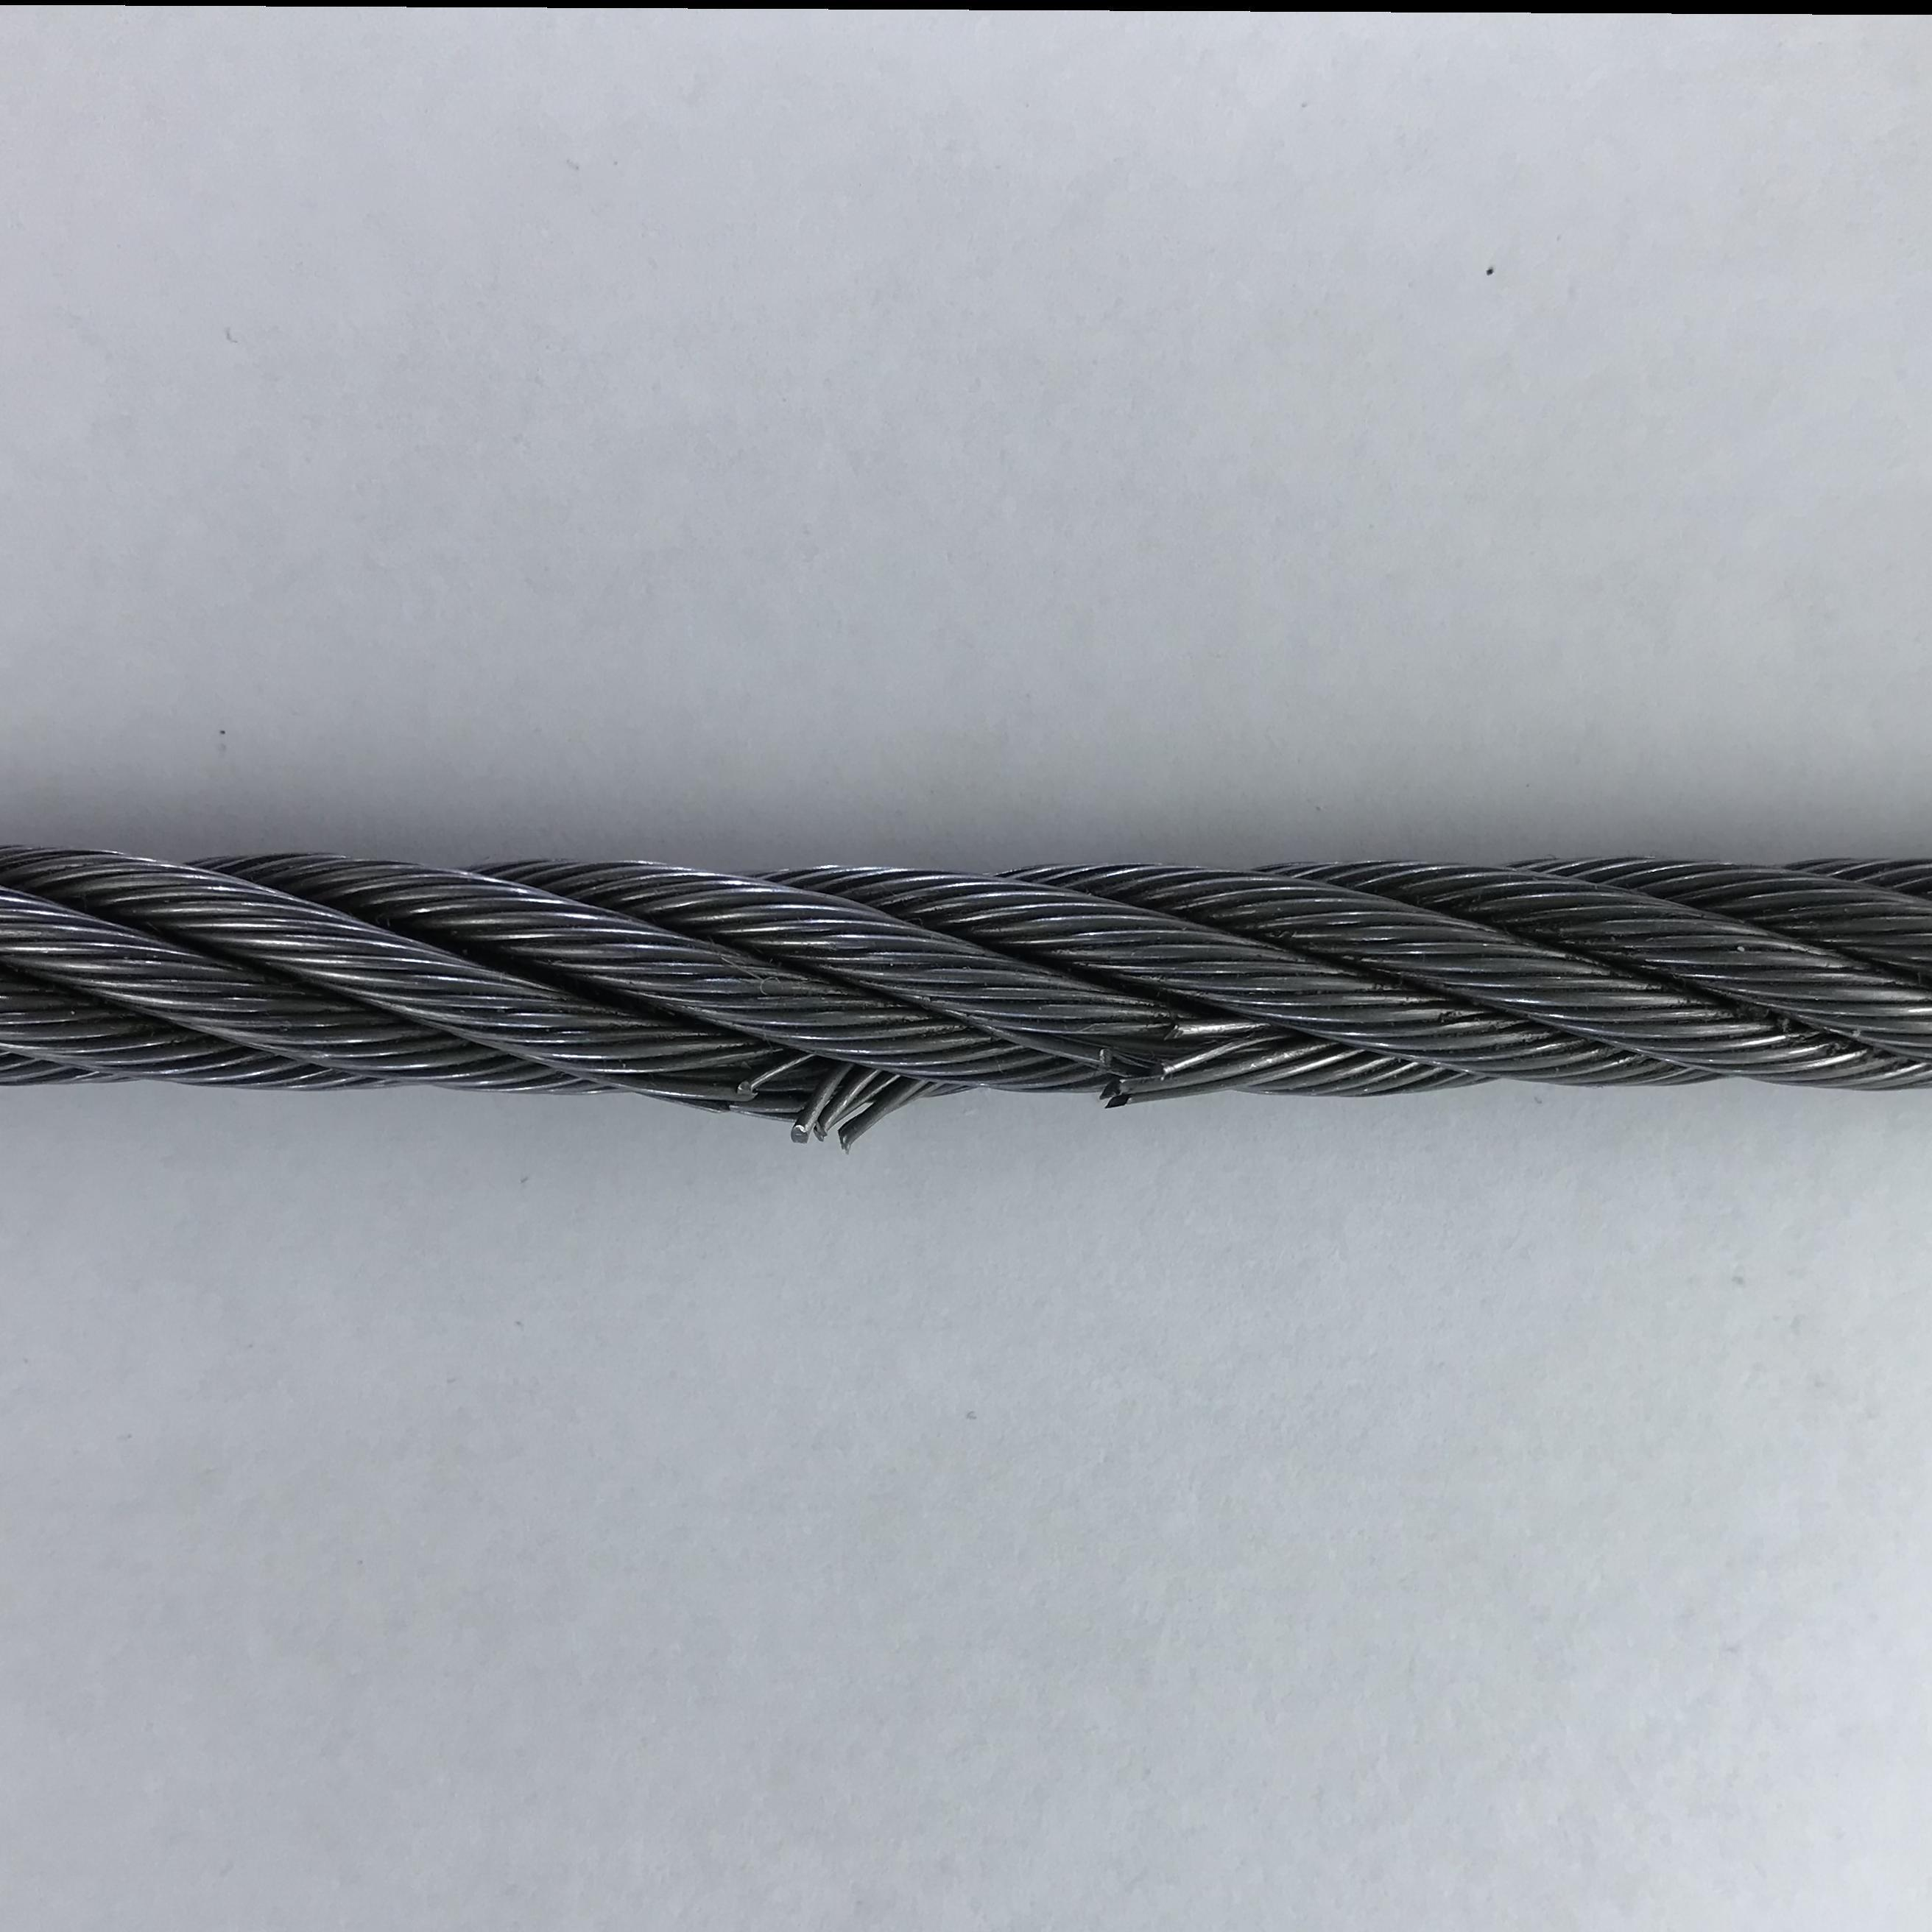break: (695, 1033, 922, 1154), (1079, 1010, 1235, 1118)
